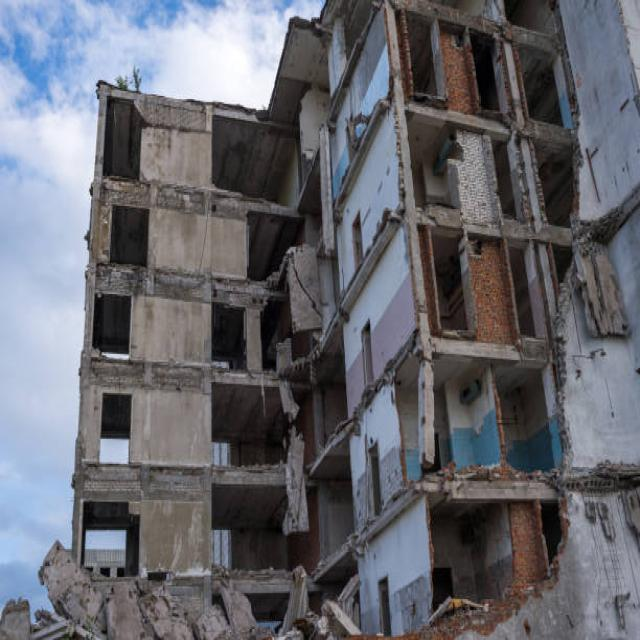Destroyed_building: (1, 0, 488, 640)
